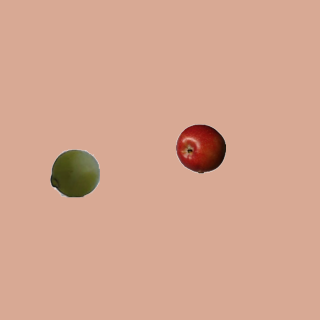Apple Braeburn: (175, 123, 225, 173)
Grape White 4: (49, 147, 99, 197)
